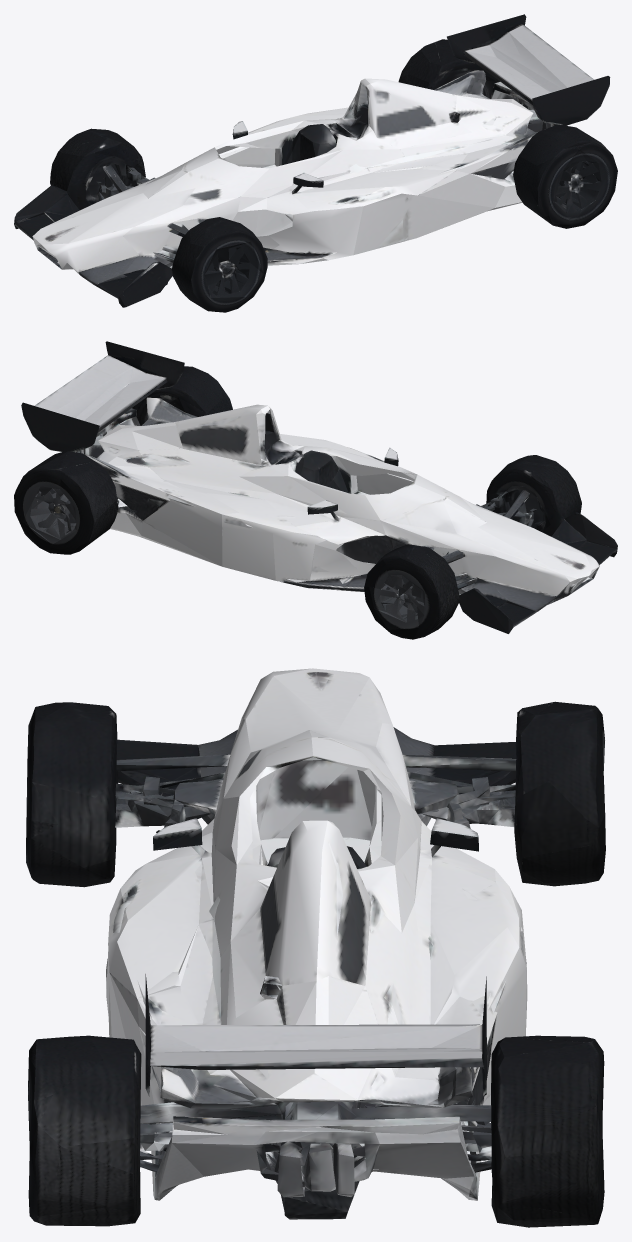
Rendered from car.glb.
The picture shows the model from 3 angles, top to bottom: view 1: azimuth 30°, elevation 25°; view 2: azimuth 150°, elevation 25°; view 3: azimuth 270°, elevation 25°; orthographic projection. The views are drawn at different scales.
Bounding box in the file's own units: 1.9 × 0.4496 × 0.9023.
Materials: 1 (1 with a texture image).
